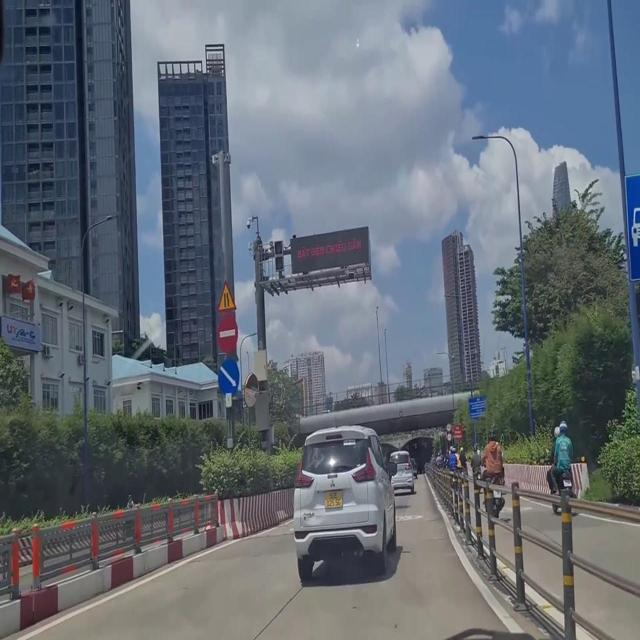Cấm đi ngược chiều: (216, 306, 239, 354)
Hướng phải đi vòng sang phải: (216, 354, 241, 398)
Khác: (468, 392, 486, 417)
Đường hẹp: (211, 275, 235, 310)
